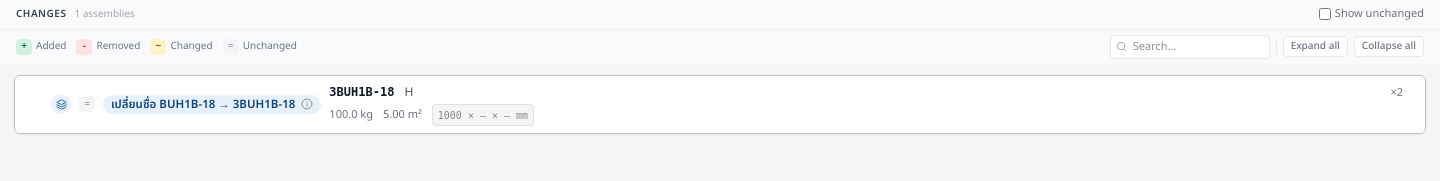
Scenario: DiffHierarchyView — renames (2026-10-21) › an undo that is not allowed explains why on an ⓘ icon instead of a button
This screenshot has width=1440, height=181.
Expected: the button "ยกเลิกคู่" is not shown
Hover over the element named "ทำไมยกเลิกคู่ไม่ได้" at [307, 104], box [301,98,313,110]
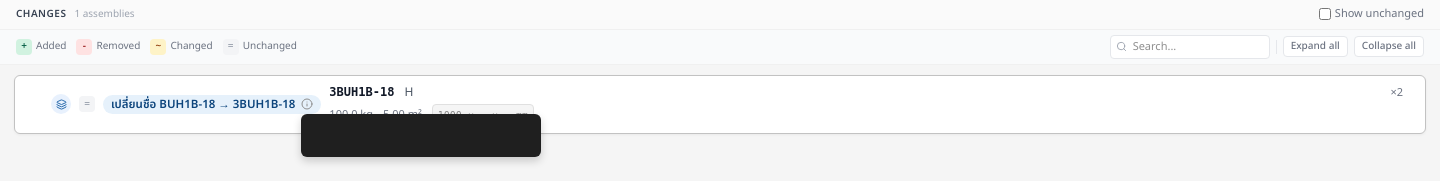
Move the pointer off the element named "ทำไมยกเลิกคู่ไม่ได้", box [301,98,313,110]
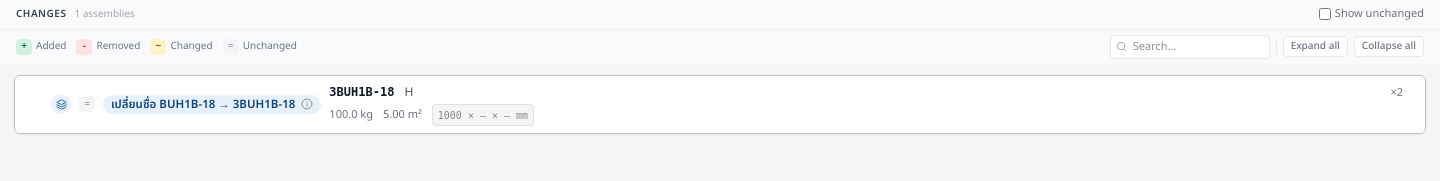
Now the tooltip "มี MO หรือ WO ใช้ชื่อ 3BUH1B-18 ตามคู่นี้แล้ว — ยกเลิกคู่ไม่ได้" is gone
